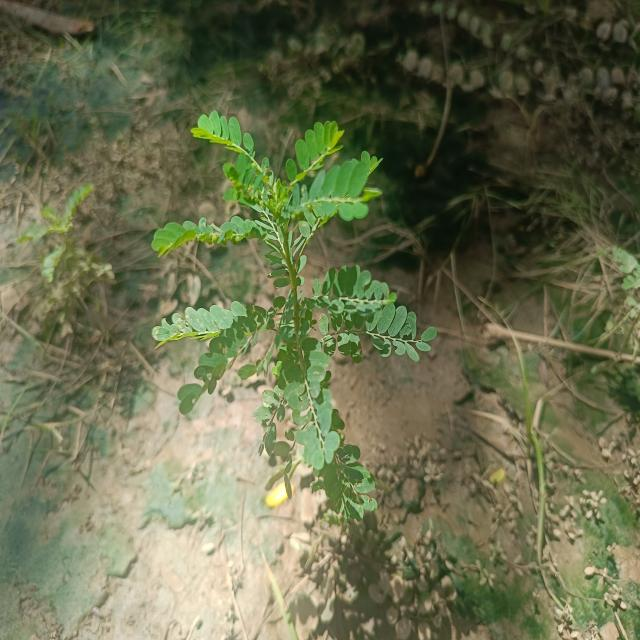weed: (147, 110, 435, 524)
